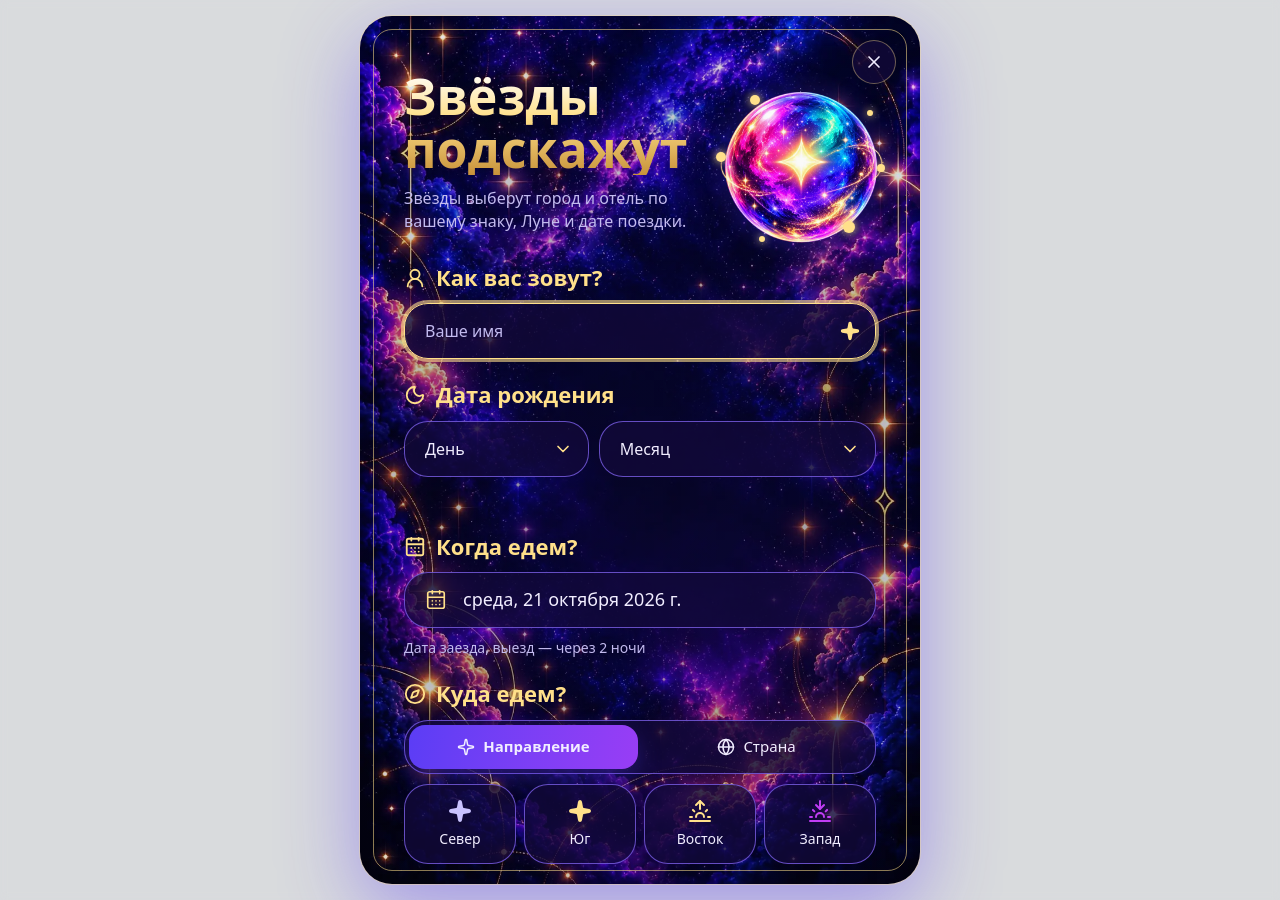
Test: StarSearch form › shows the sign as soon as the birthday is known
Type "Анна" into the field labelled "Как вас зовут?" at (640, 331), box [404,303,876,359]
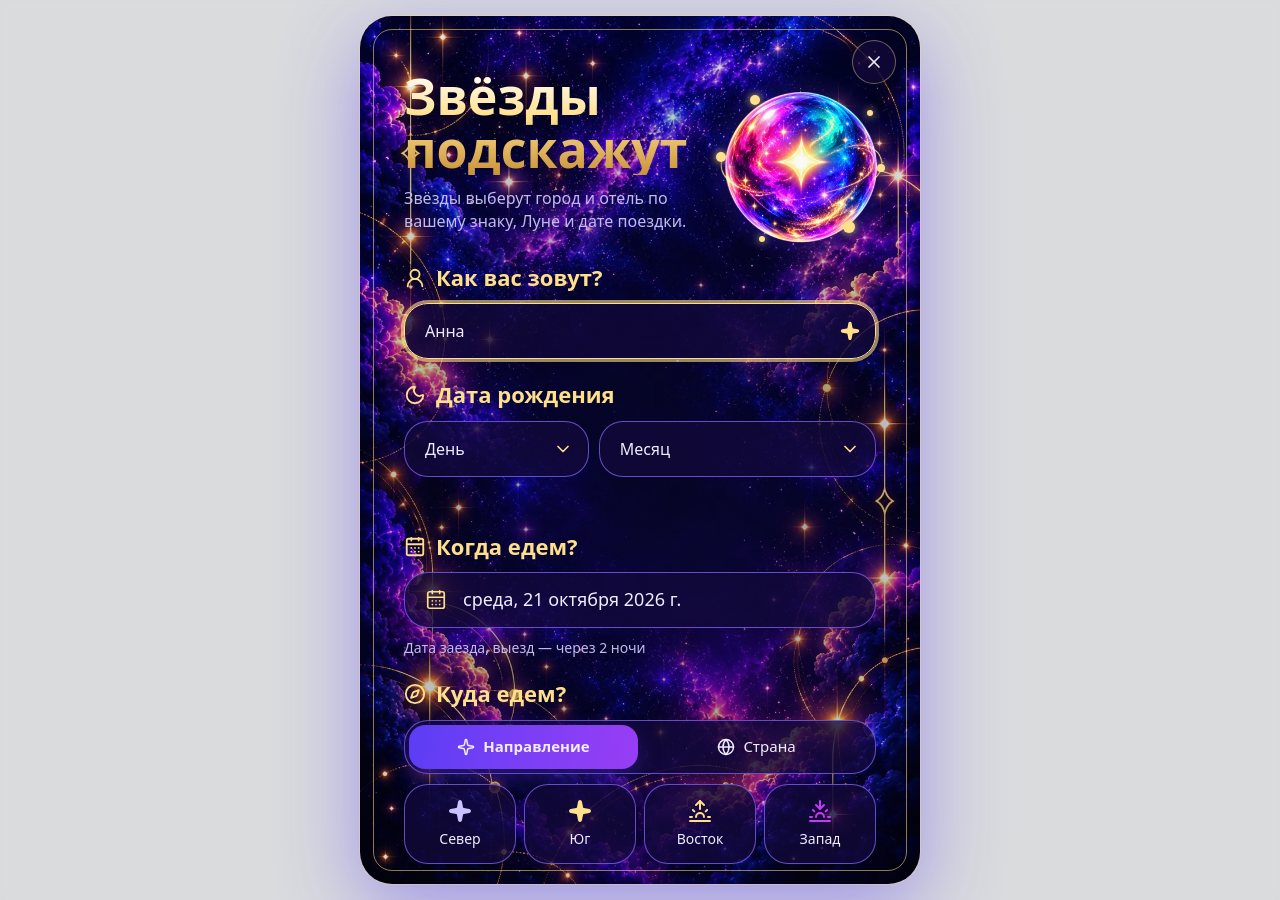
Select "21" in the dropdown named "День" at (496, 449), box [404,421,589,477]
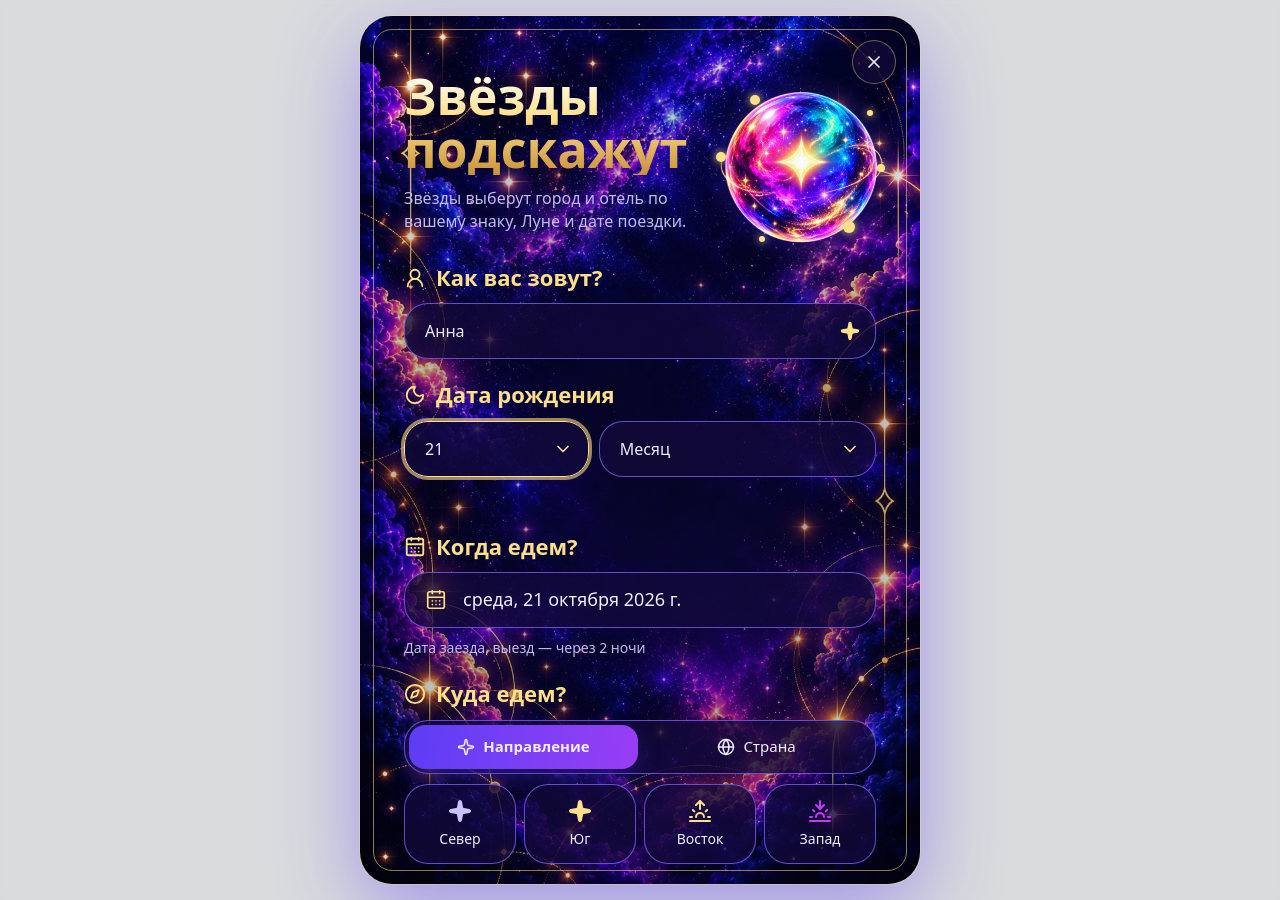
Select "марта" in the dropdown named "Месяц" at (737, 449), box [599,421,876,477]
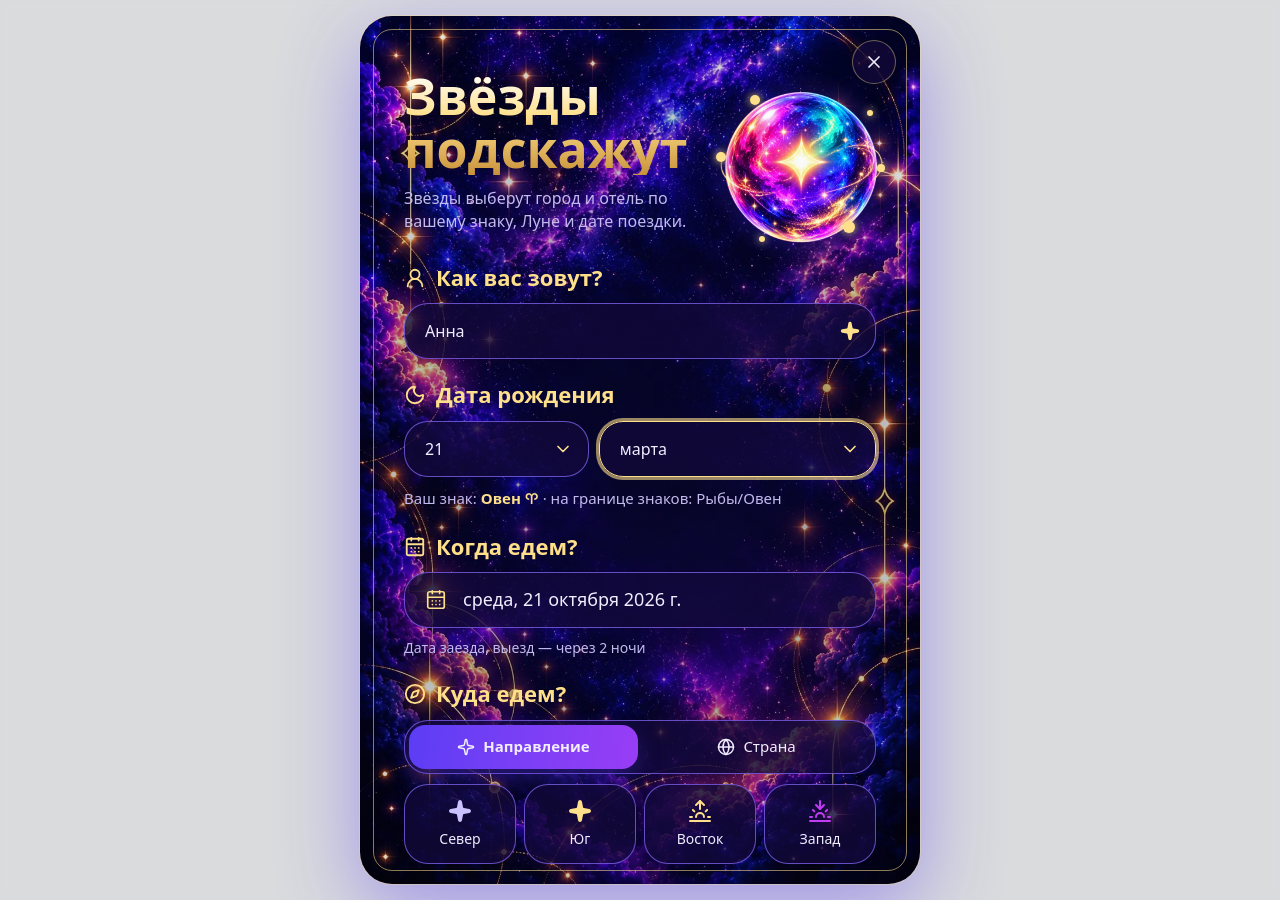
Check: the text "Ваш знак: Овен · на границе знаков: Рыбы/Овен" is shown, box [404,482,782,513]
